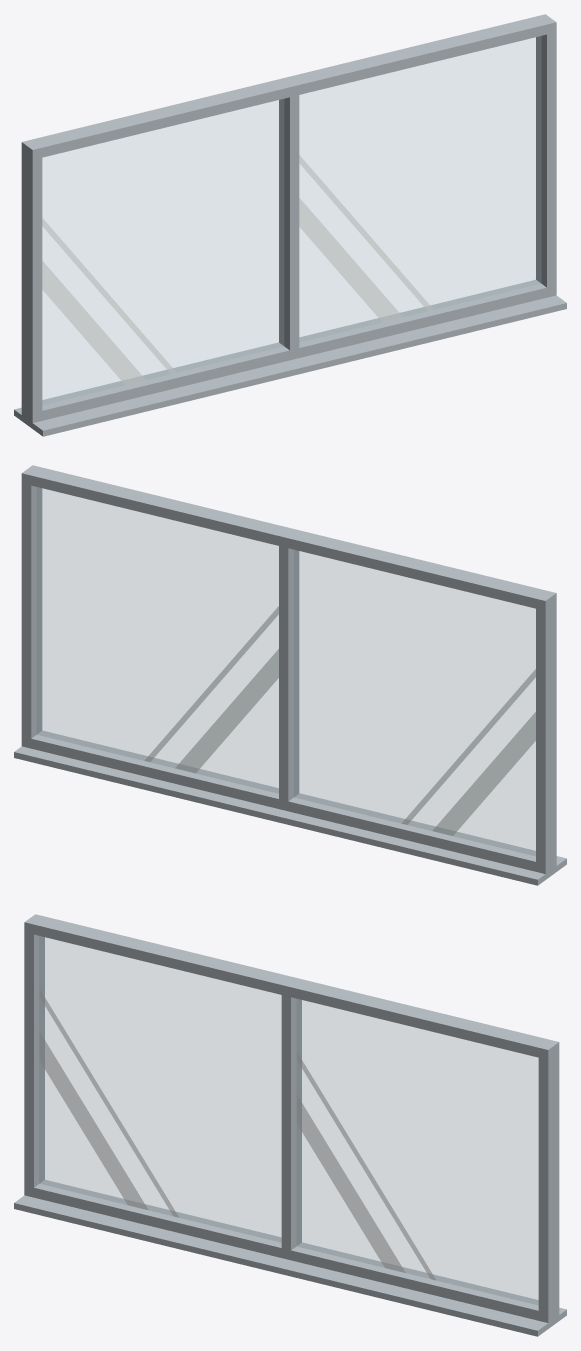
Rendered from SM_StorefrontBay_A.glb.
The picture shows the model from 3 angles, top to bottom: view 1: azimuth 30°, elevation 25°; view 2: azimuth 150°, elevation 25°; view 3: azimuth 330°, elevation 25°; orthographic projection.
Visible parts, largest first — view 1: Glass, SM_StorefrontBay_A; view 2: Glass, SM_StorefrontBay_A; view 3: Glass, SM_StorefrontBay_A.
Boxes of the visible parts, bbox=[...] form: Glass: bbox=[42, 36, 541, 404]; SM_StorefrontBay_A: bbox=[14, 14, 566, 436]; Glass: bbox=[37, 487, 535, 855]; SM_StorefrontBay_A: bbox=[14, 465, 566, 885]; Glass: bbox=[39, 936, 538, 1304]; SM_StorefrontBay_A: bbox=[14, 914, 566, 1336].
Size of the model in its own units: 2.75 by 1.4 by 0.265.
Materials: 3 (3 with a texture image).
